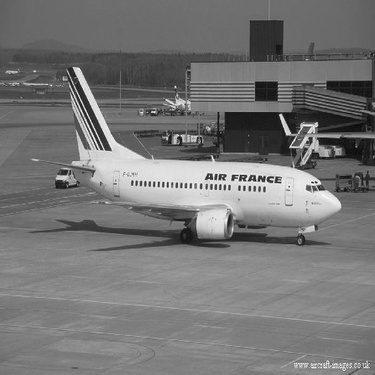airplane: (24, 62, 345, 250), (157, 81, 198, 113)
